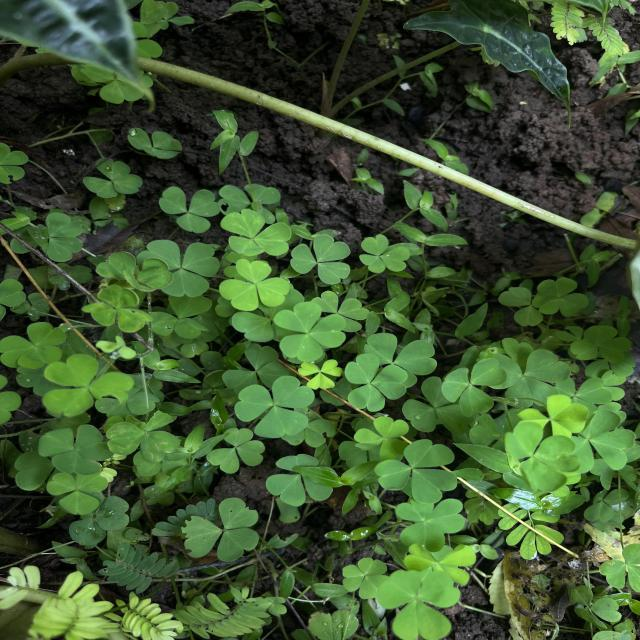Oxalis corniculata: (376, 565, 461, 640), (41, 352, 136, 418), (376, 439, 458, 505), (234, 374, 316, 439), (180, 497, 260, 562), (136, 238, 220, 298), (273, 301, 347, 362), (37, 424, 117, 476), (106, 409, 180, 464), (441, 357, 508, 417), (218, 258, 292, 312), (396, 497, 468, 552), (344, 352, 408, 412), (218, 258, 290, 311), (265, 453, 335, 506), (507, 348, 572, 405), (81, 284, 153, 334), (220, 208, 292, 256), (1, 322, 66, 370), (291, 234, 351, 284), (158, 186, 220, 233), (46, 472, 110, 516), (206, 427, 265, 474), (569, 323, 633, 364), (82, 156, 144, 198), (354, 415, 410, 460), (538, 276, 590, 318), (341, 556, 390, 600), (358, 234, 411, 274), (126, 126, 184, 161), (296, 358, 340, 391), (7, 388, 22, 415)
